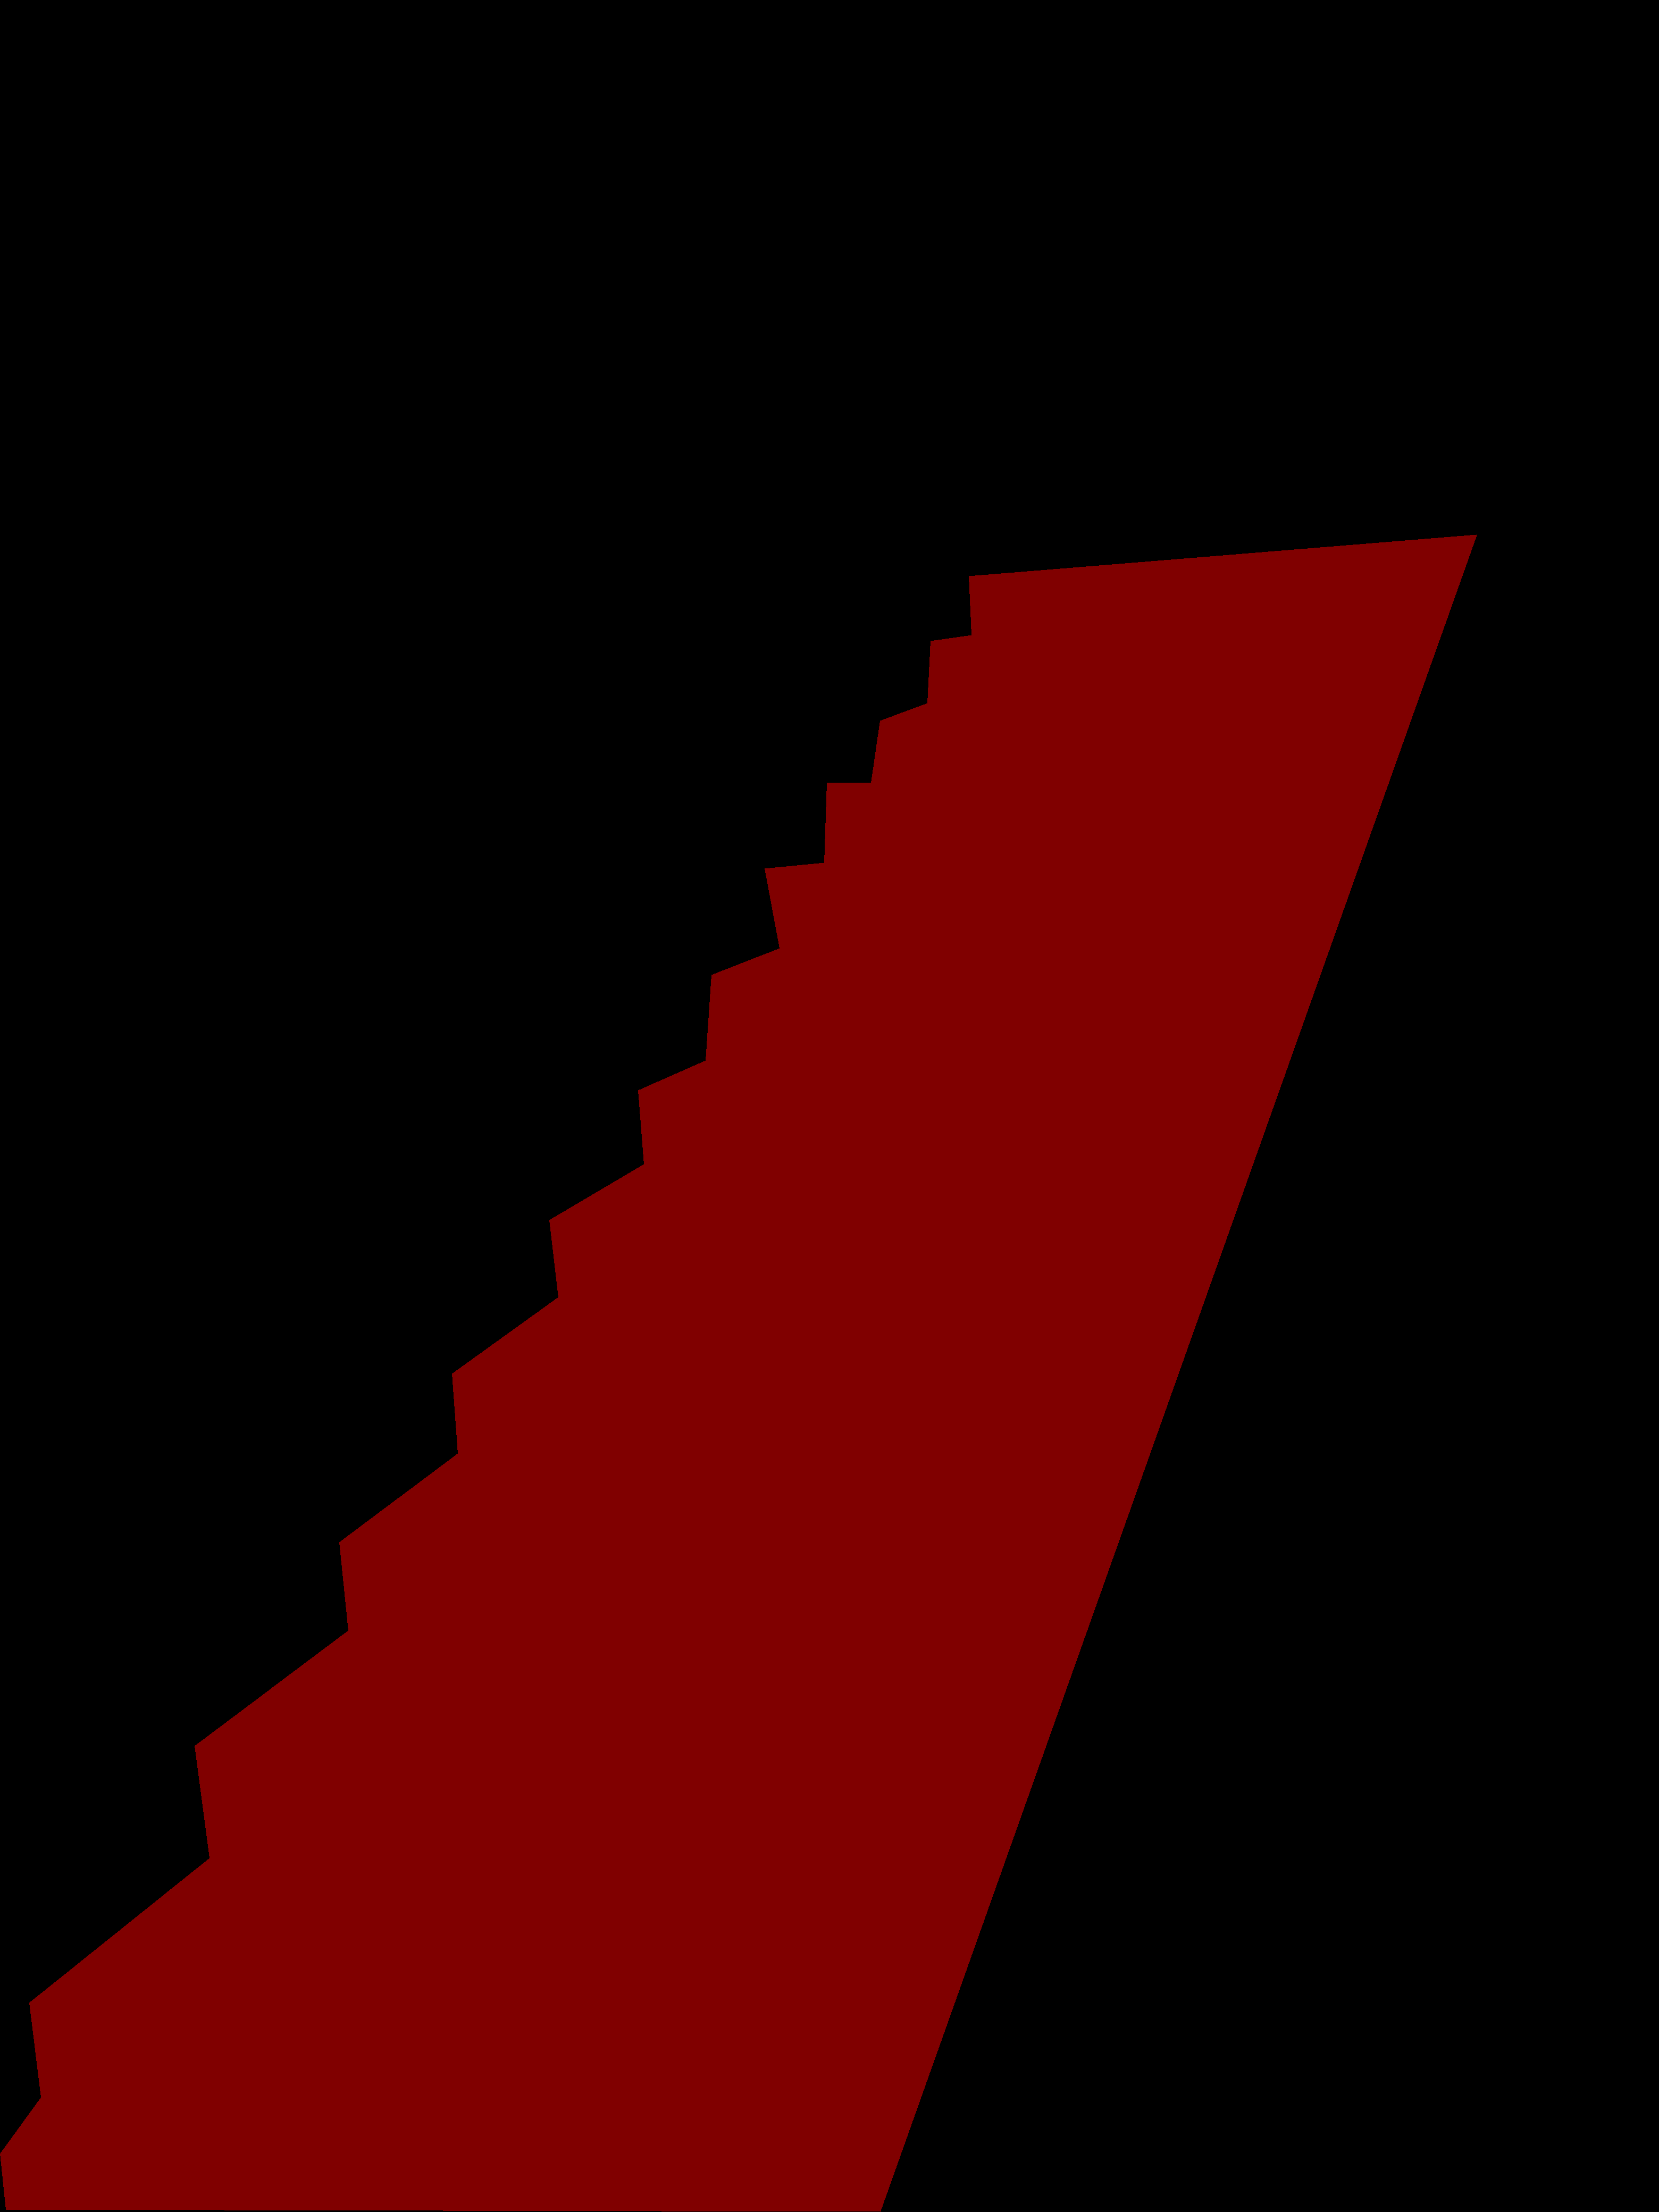stair: (0, 535, 1476, 2212)
